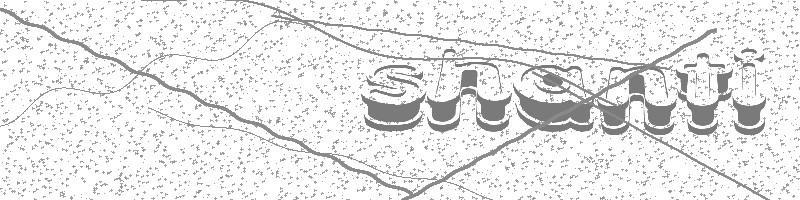a: (509, 59, 596, 132)
h: (421, 43, 515, 135)
i: (721, 46, 769, 136)
n: (594, 62, 677, 137)
s: (354, 62, 428, 132)
t: (672, 46, 733, 136)
